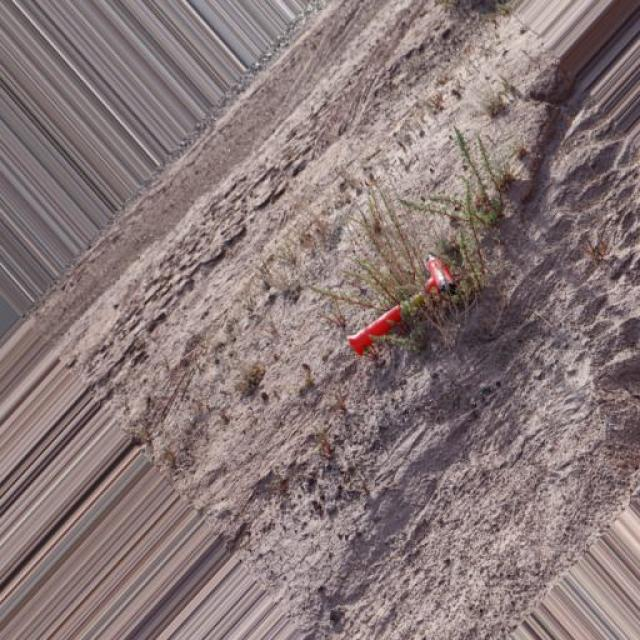mallet: (345, 252, 456, 356)
